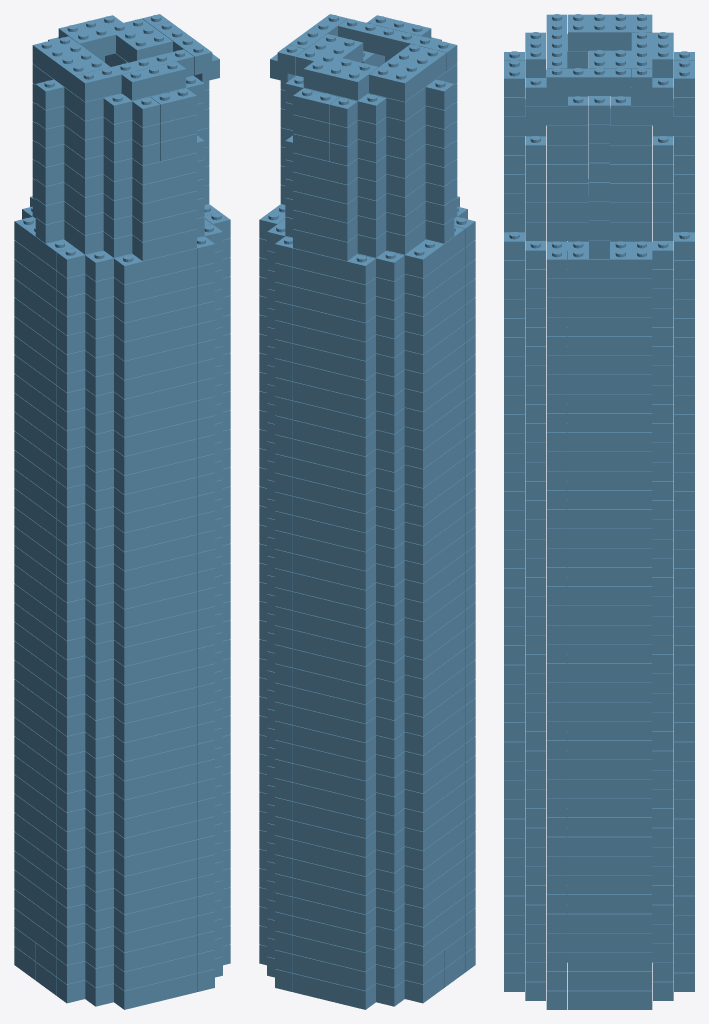
Rendered from 070_bookshelf_L5.glb.
3 views of the same model, side by side, from view 1: azimuth 30°, elevation 25°; view 2: azimuth 150°, elevation 25°; view 3: azimuth 270°, elevation 25° (orthographic).
Size of the model in its own units: 8.98 by 48.13 by 8.98.
